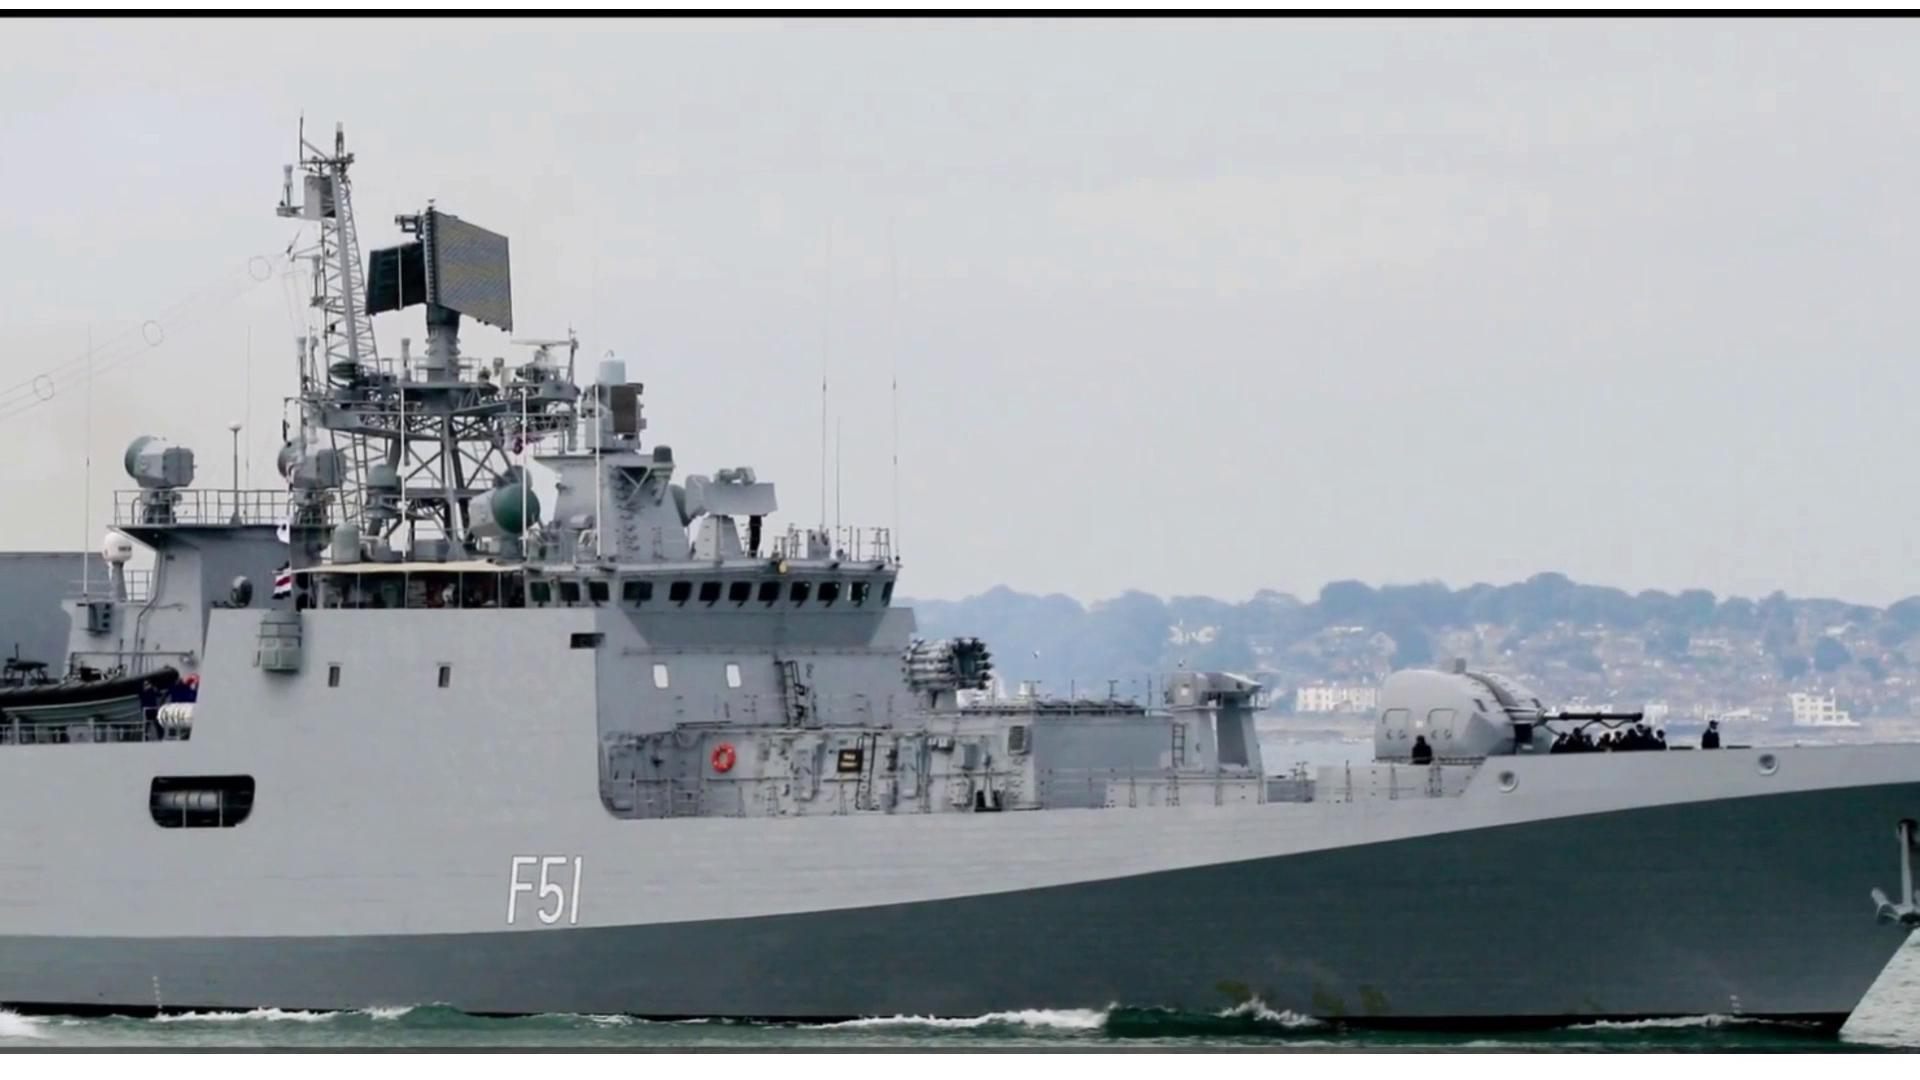OCR: (504, 848, 606, 937)
